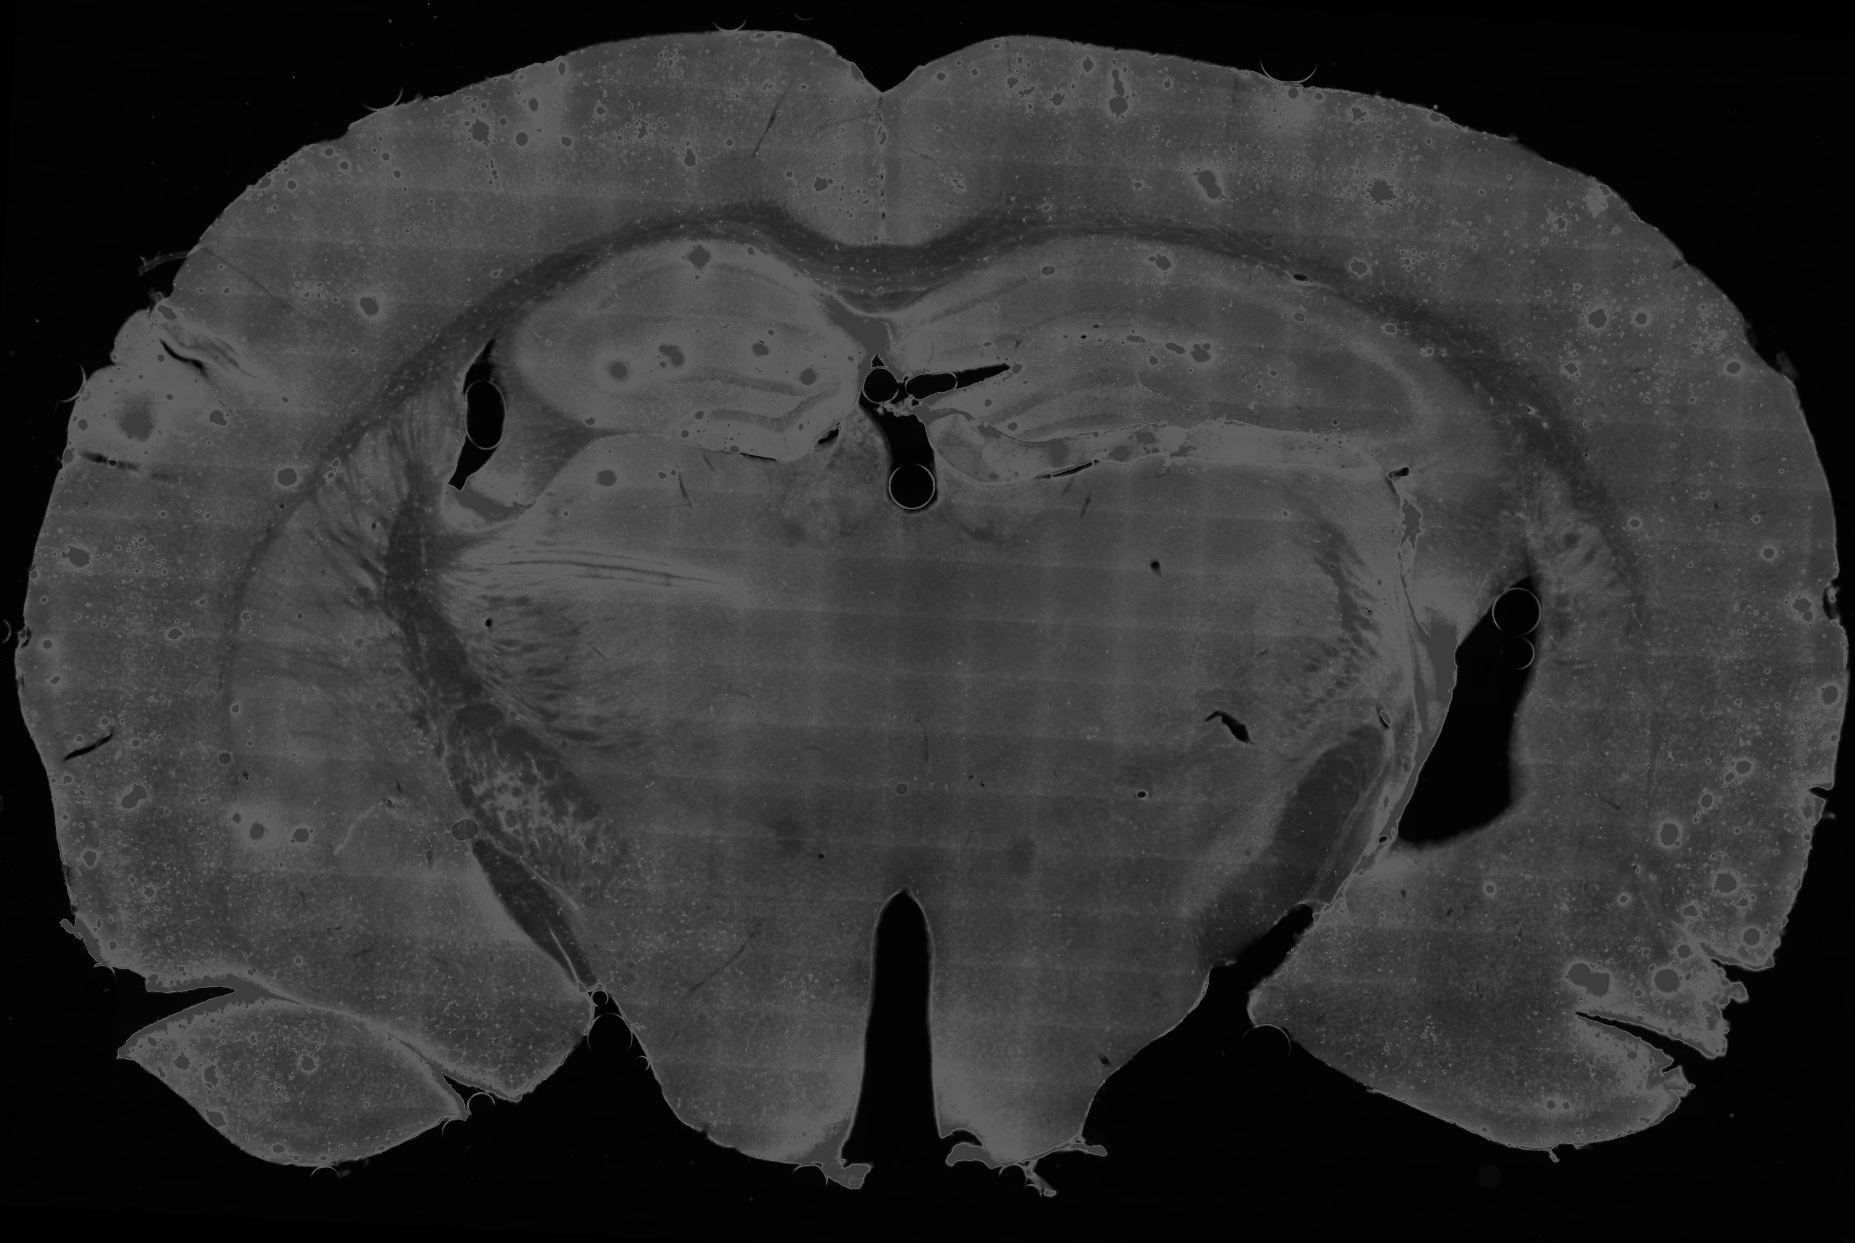Cerebral nuclei: (226, 380, 463, 791), (1514, 461, 1639, 785)
Hypothalamus: (889, 714, 1369, 1168), (531, 748, 900, 1169)
Retrosplenial area: (885, 234, 1493, 483), (511, 239, 870, 461), (882, 47, 988, 248), (780, 46, 884, 247)
Somatosensory area: (1288, 82, 1781, 486), (166, 80, 556, 418)
Thalamus: (902, 409, 1418, 855), (440, 406, 910, 848)
